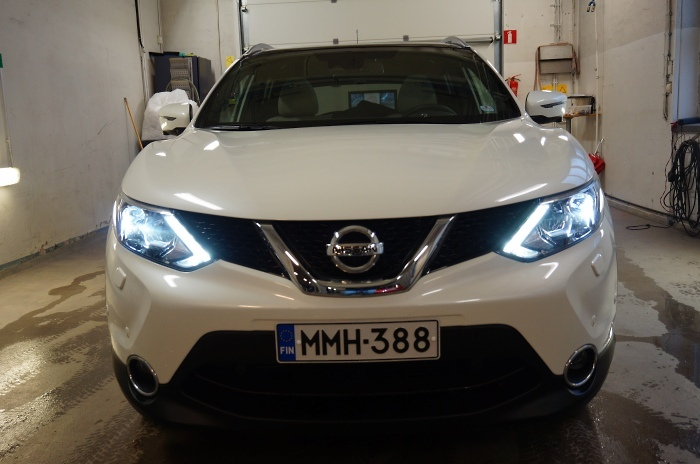license: (271, 321, 440, 369)
